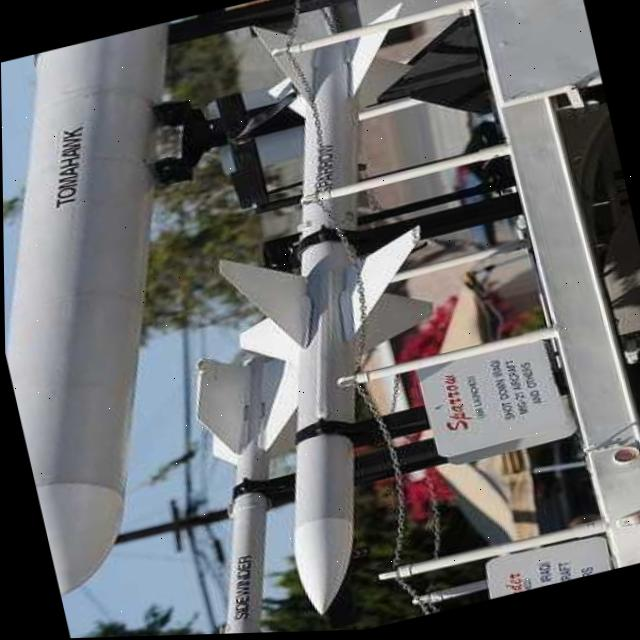missile: (141, 1, 529, 627), (0, 19, 284, 596), (154, 344, 351, 637)
